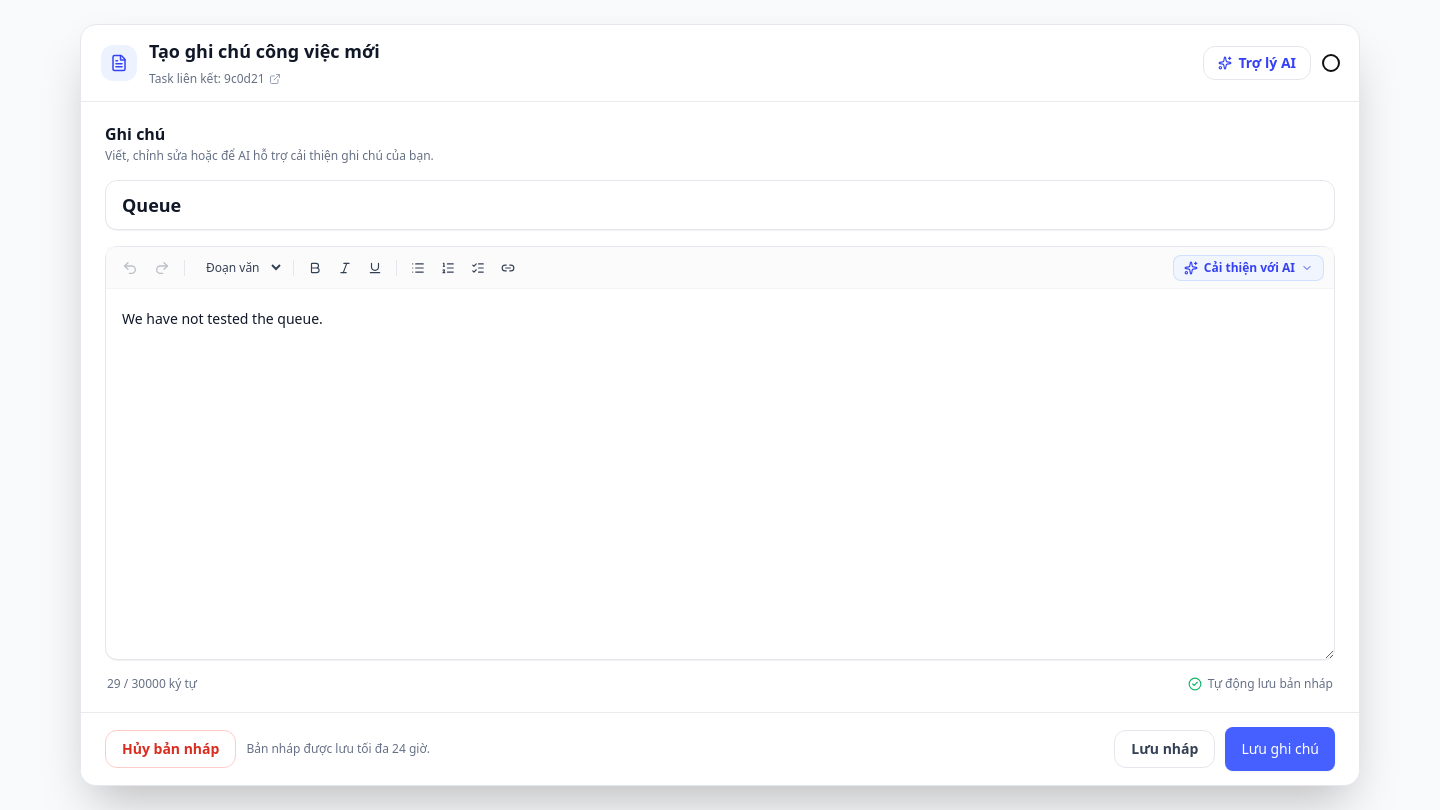
retries the failed Agent operation and opens a returned clarification in the AI chat stream
Check: the text box showing "We have not tested the queue." is shown, box x1=106 y1=289 x2=1334 y2=659
Click the button "Cải thiện với AI" at (1248,268), box x1=1173 y1=255 x2=1324 y2=281
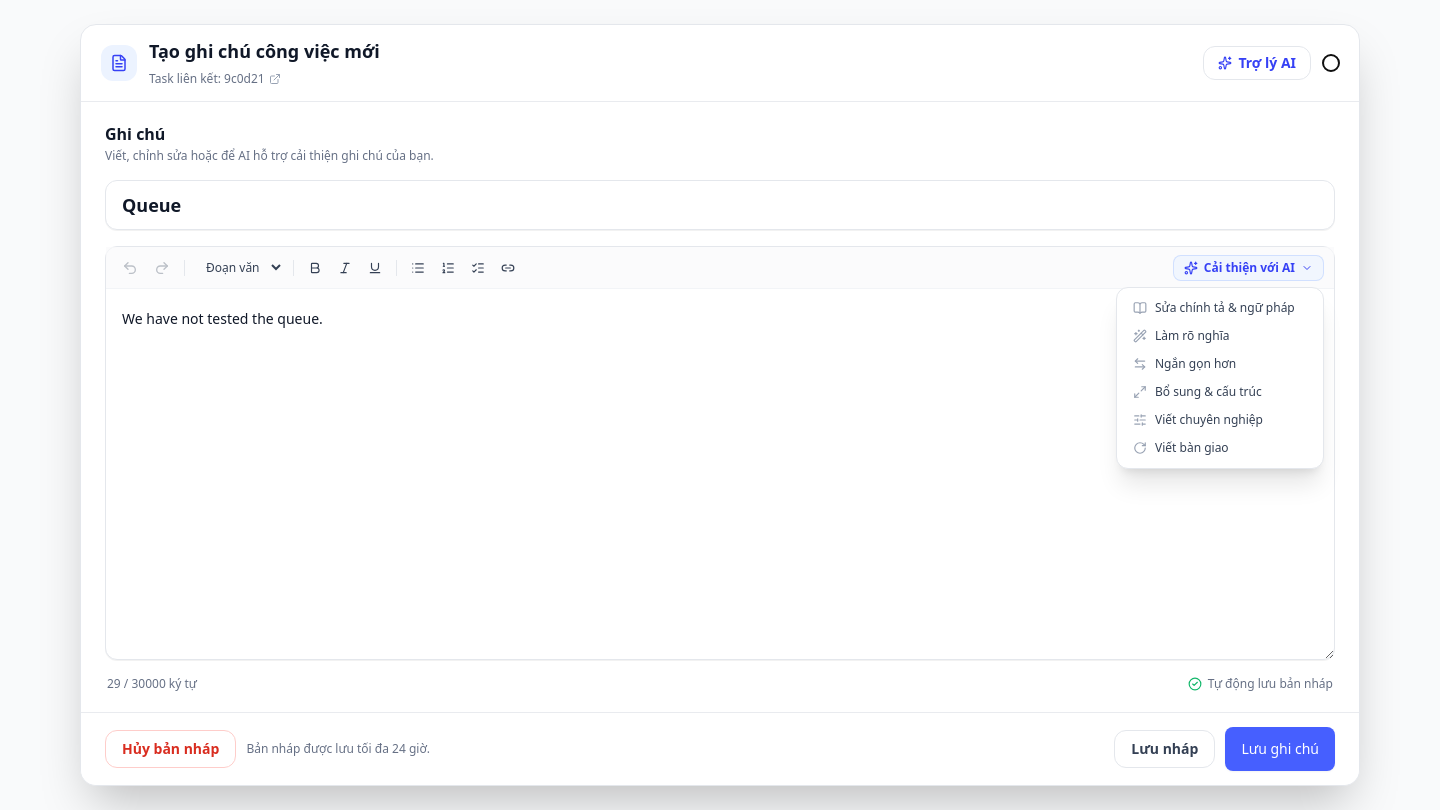
Click the button "Sửa chính tả & ngữ pháp" at (1220,308), box x1=1123 y1=294 x2=1317 y2=322
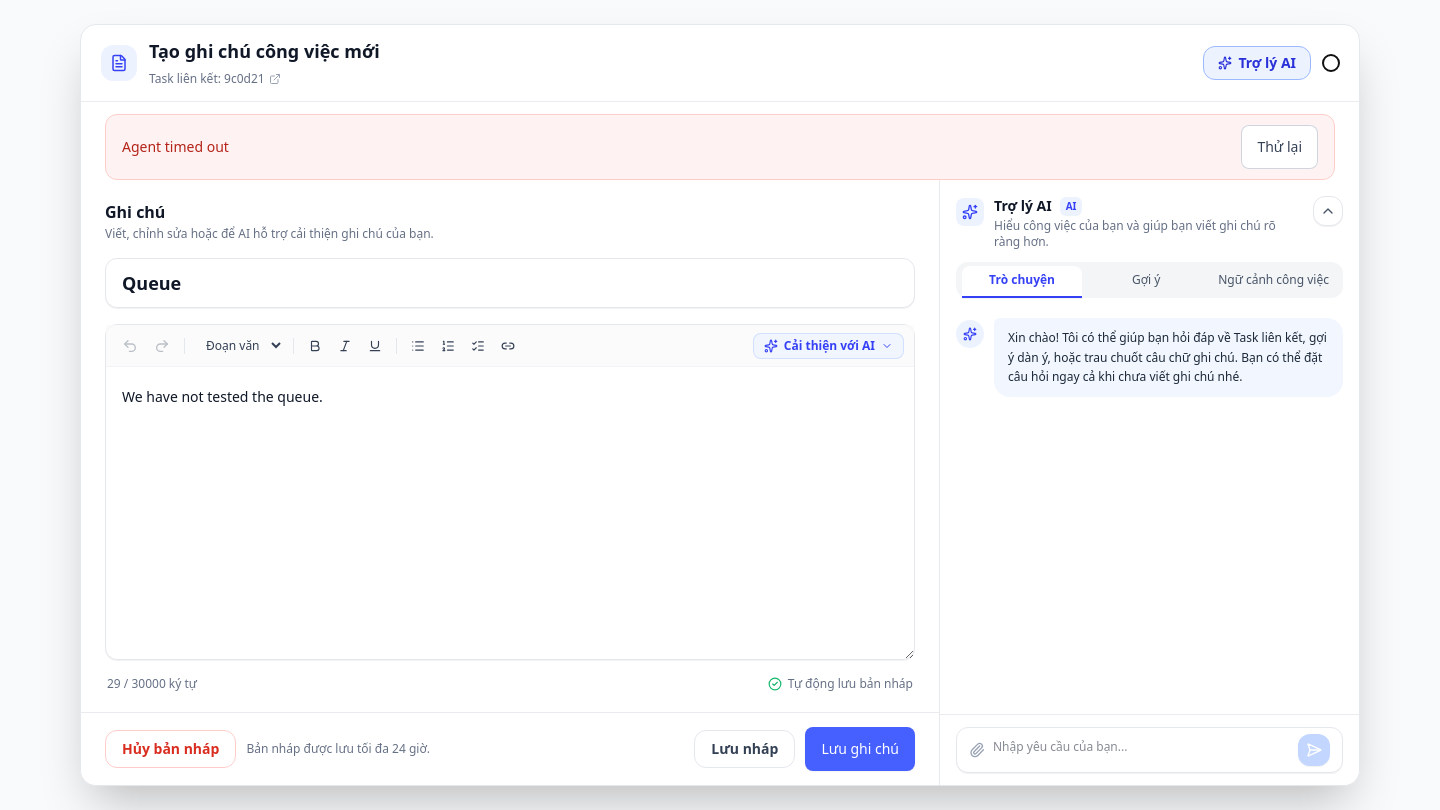
Check: the text "Agent timed out" is shown, box x1=122 y1=137 x2=229 y2=157
Click the button "Thử lại" at (1280,147), box x1=1241 y1=125 x2=1318 y2=169
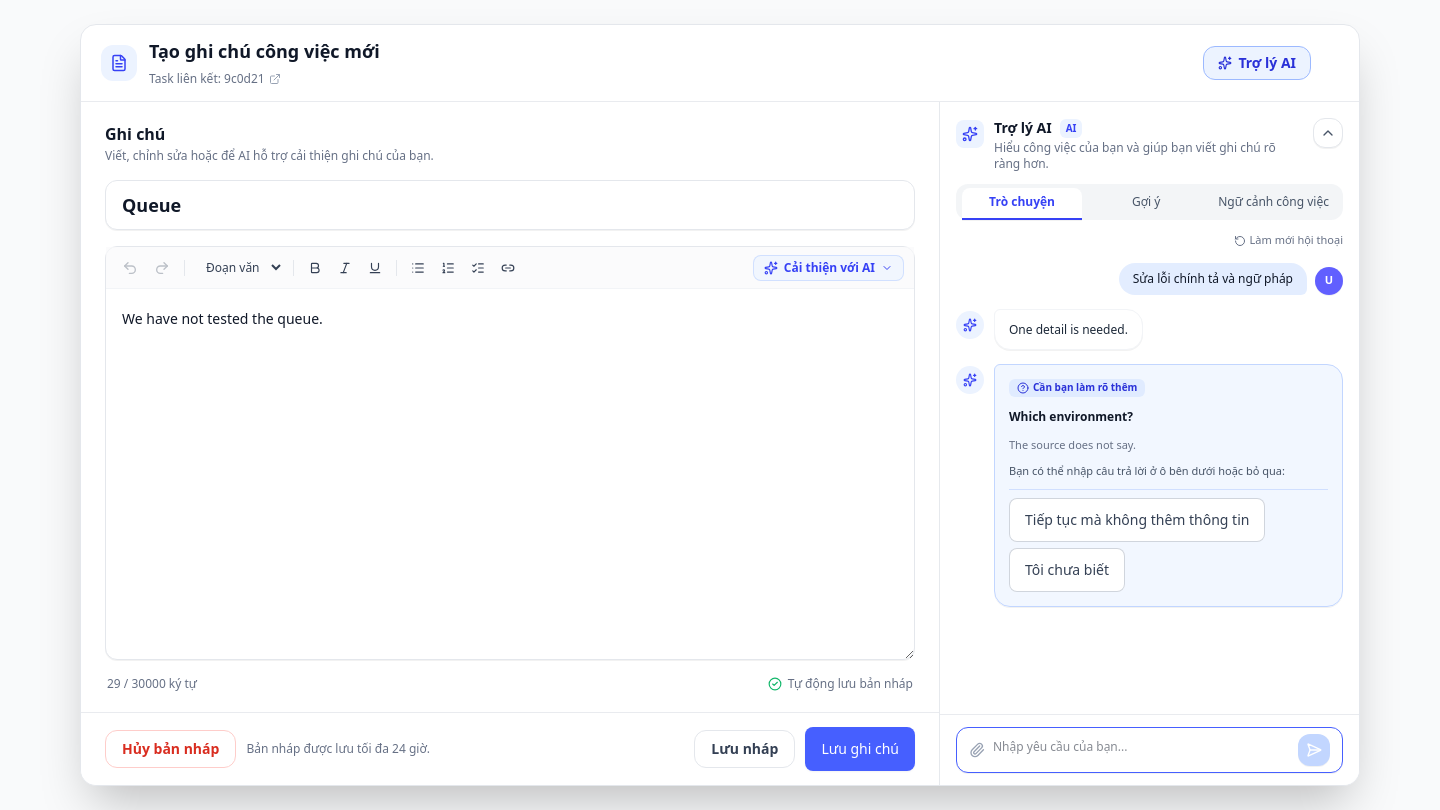
Check: the text box named "Nội dung" holds "We have not tested the queue.", box x1=106 y1=289 x2=914 y2=659
Check: the text "Which environment?" is shown, box x1=1009 y1=408 x2=1133 y2=425
